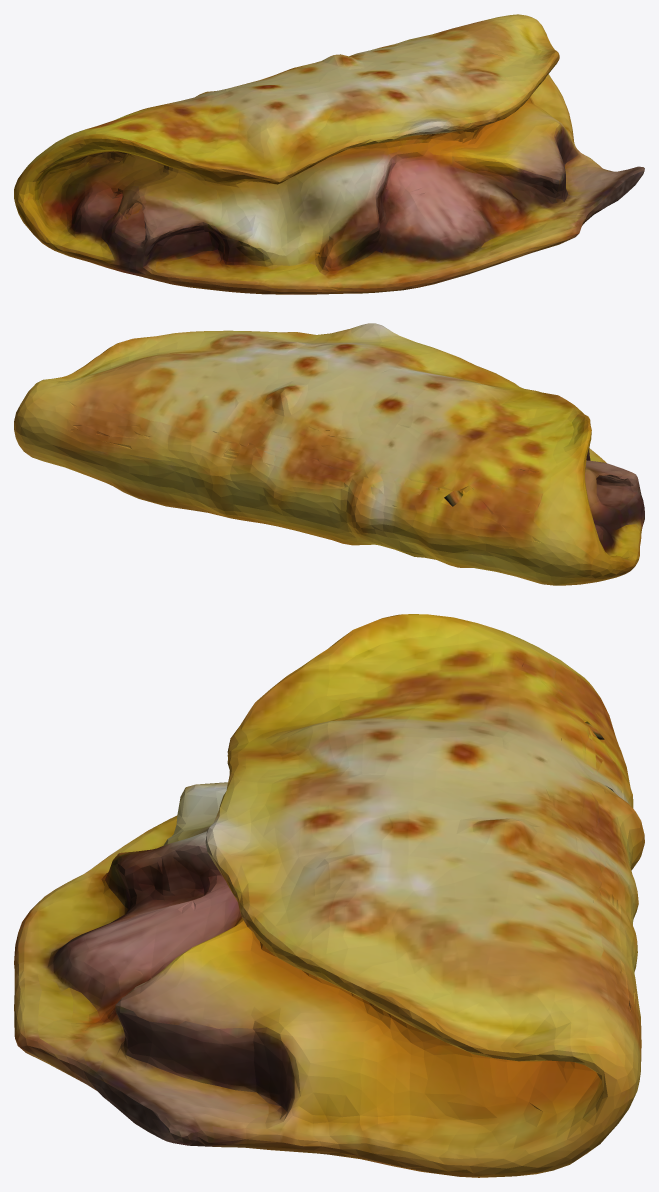
The model's file is p_omelette.glb.
3 renders of one model, top to bottom at view 1: azimuth 30°, elevation 25°; view 2: azimuth 150°, elevation 25°; view 3: azimuth 270°, elevation 25°, orthographic. The views are drawn at different scales.
Visible parts, largest first — view 1: geometry_0; view 2: geometry_0; view 3: geometry_0.
Part boxes in pixels (<box>): geometry_0: <box>14,14,644,294</box>; geometry_0: <box>14,323,644,585</box>; geometry_0: <box>14,614,644,1177</box>.
Bounding box in the file's own units: 0.9993 × 0.2106 × 0.6122.
Materials: 1 (1 with a texture image).
